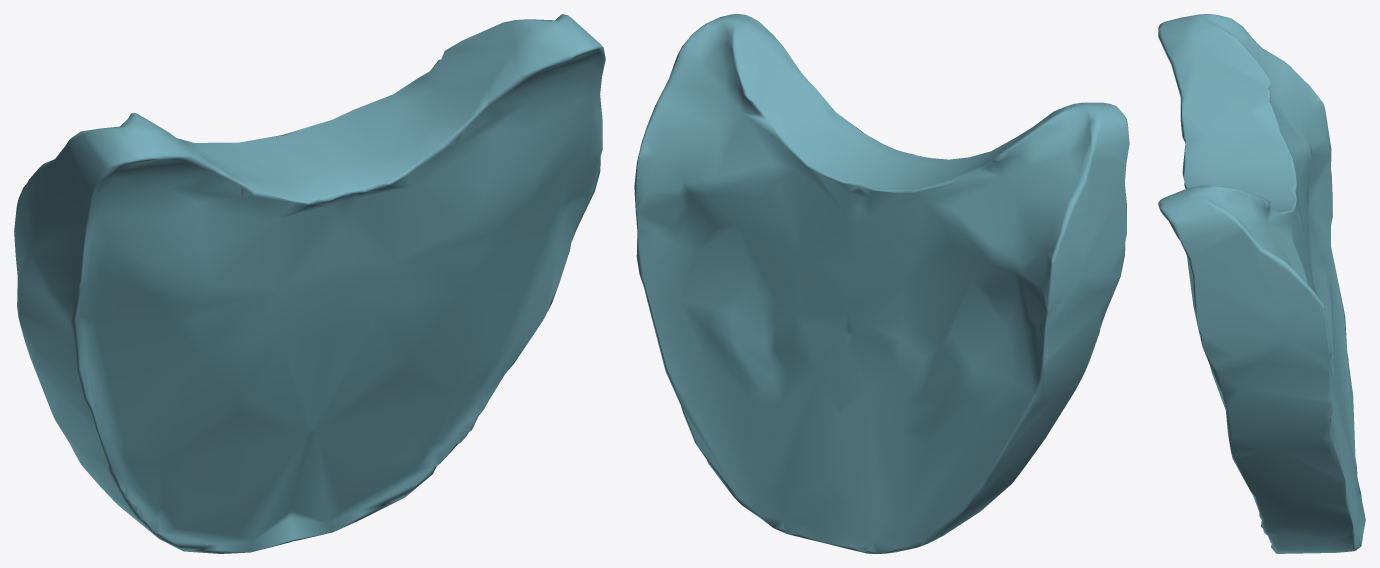
3 renders of one model, left to right at view 1: azimuth 30°, elevation 25°; view 2: azimuth 150°, elevation 25°; view 3: azimuth 270°, elevation 25°, orthographic. The views are drawn at different scales.
Visible parts, largest first — view 1: 胸4—胸5椎间盘; view 2: 胸4—胸5椎间盘; view 3: 胸4—胸5椎间盘.
Part boxes in pixels (box(x1,y1,x2,y2)): 胸4—胸5椎间盘: box(14, 14, 605, 553); 胸4—胸5椎间盘: box(634, 14, 1129, 553); 胸4—胸5椎间盘: box(1158, 14, 1365, 553).
Bounding box in the file's own units: 0.0473 × 0.0438 × 0.0195.
